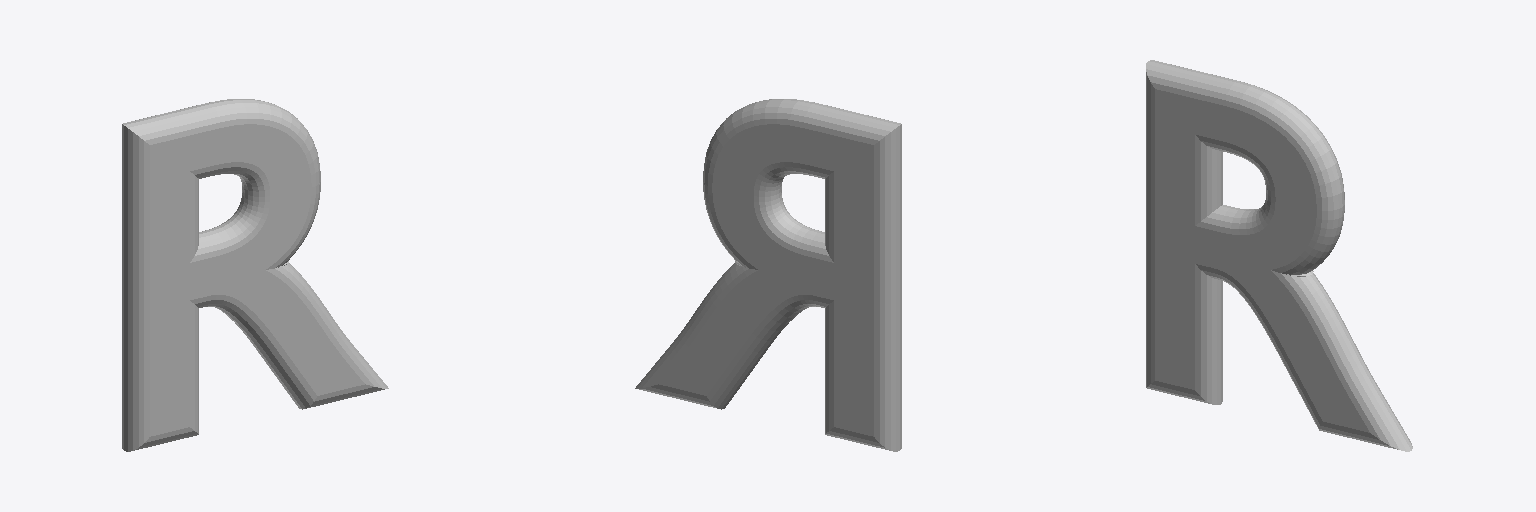
Rendered from refractionText.obj.
The picture shows the model from 3 angles: view 1: azimuth 30°, elevation 25°; view 2: azimuth 150°, elevation 25°; view 3: azimuth 330°, elevation 25°; orthographic projection.
Visible parts, largest first — view 1: Text; view 2: Text; view 3: Text.
Part boxes in pixels (bbox=[...]): Text: bbox=[122, 99, 388, 451]; Text: bbox=[635, 99, 901, 451]; Text: bbox=[1146, 60, 1412, 451].
Size of the model in its own units: 1.29 by 1.52 by 0.16.